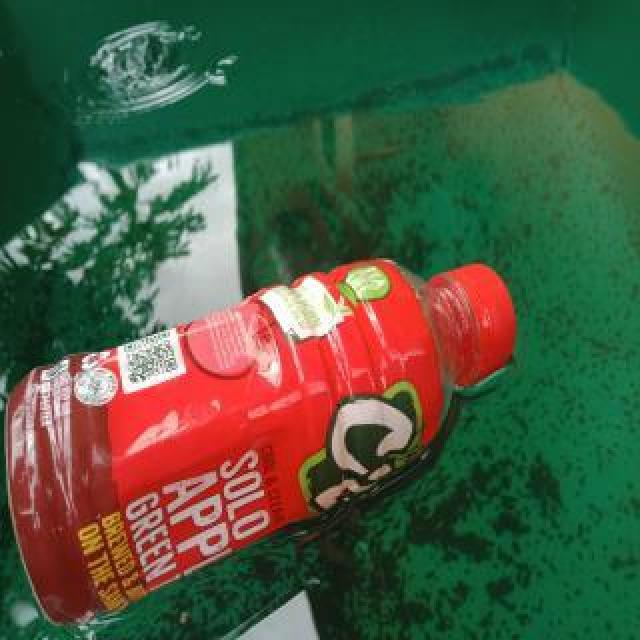bottle: (4, 251, 520, 629)
